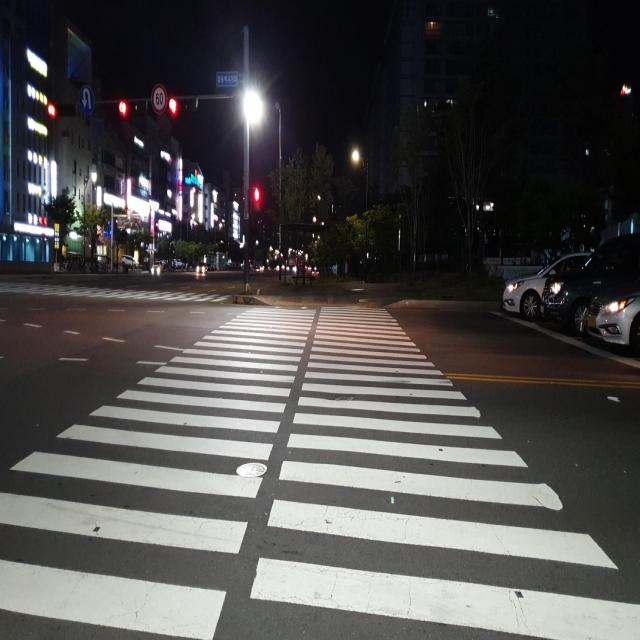빨간불: (251, 186, 263, 216)
횡단보도: (0, 304, 639, 640), (0, 279, 231, 305)
